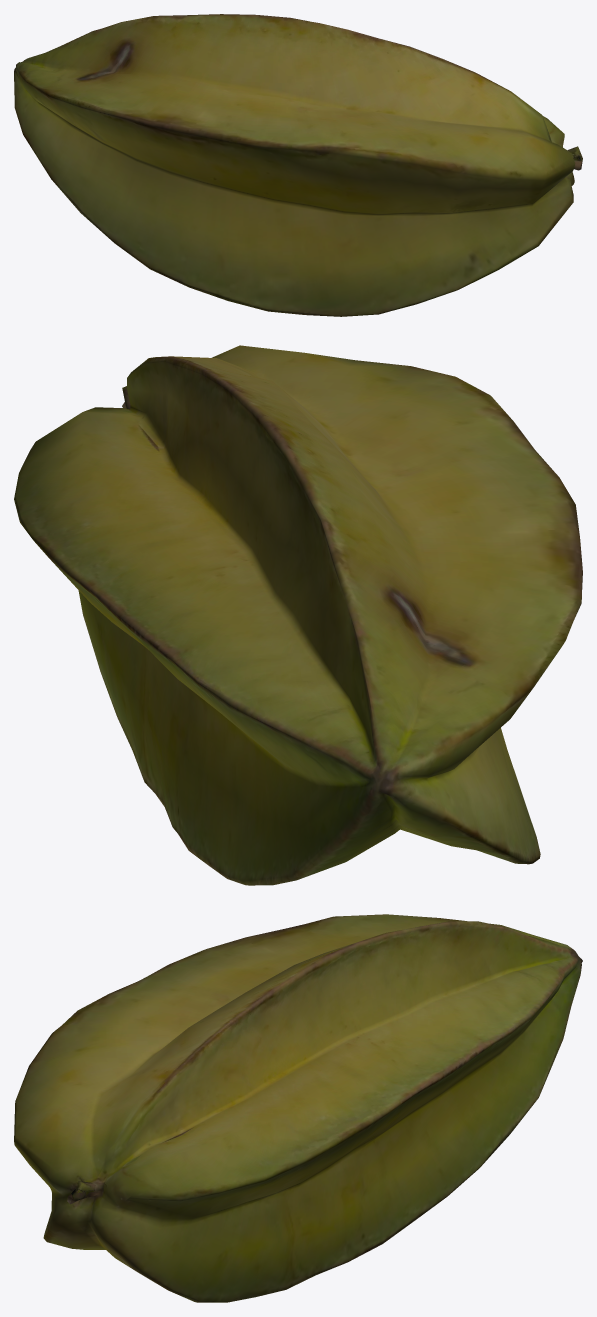
File: starfruit-0.glb
3 renders of one model, top to bottom at view 1: azimuth 30°, elevation 25°; view 2: azimuth 150°, elevation 25°; view 3: azimuth 270°, elevation 25°, orthographic. The views are drawn at different scales.
Parts seen in each view (by area): view 1: Star Fruit_Star Fruit PBR_0; view 2: Star Fruit_Star Fruit PBR_0; view 3: Star Fruit_Star Fruit PBR_0.
Boxes of the visible parts, x1,y1,x2,y2 form: Star Fruit_Star Fruit PBR_0: [14, 14, 582, 316]; Star Fruit_Star Fruit PBR_0: [14, 345, 582, 885]; Star Fruit_Star Fruit PBR_0: [14, 914, 582, 1302].
Bounding box in the file's own units: 0.0875 × 0.0506 × 0.0919.
1 material, 1 textured.
